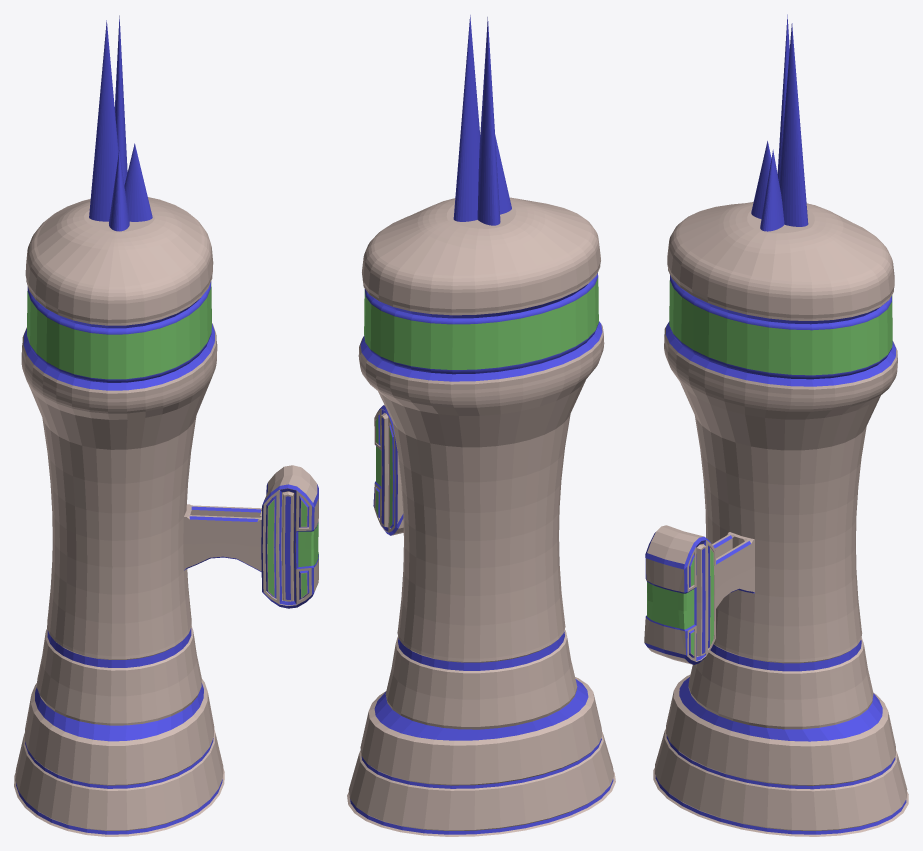
Rendered from Laboratoire_S_MC.fbx.
3 views of the same model, side by side, from view 1: azimuth 30°, elevation 25°; view 2: azimuth 150°, elevation 25°; view 3: azimuth 270°, elevation 25° (orthographic). The views are drawn at different scales.
Parts seen in each view (by area): view 1: Lab Lvl 1; view 2: Lab Lvl 1; view 3: Lab Lvl 1.
Part boxes in pixels (left/top/right/bottom): Lab Lvl 1: left=14, top=15, right=318, bottom=836; Lab Lvl 1: left=347, top=15, right=615, bottom=836; Lab Lvl 1: left=644, top=14, right=908, bottom=836.
Bounding box in the file's own units: 650 × 1861 × 581.
